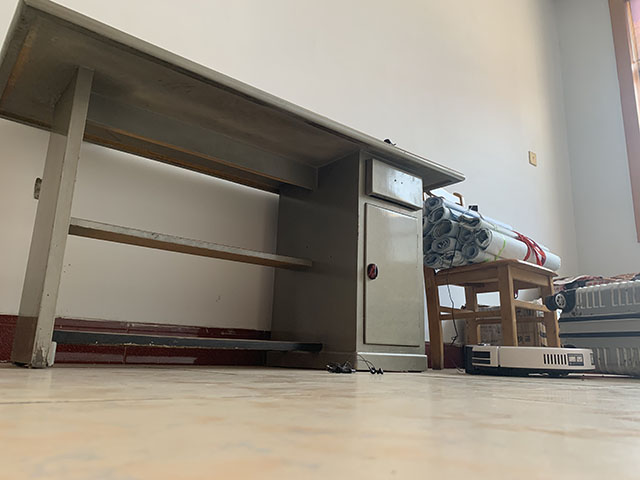stool: (423, 257, 564, 373)
table: (1, 1, 467, 378)
wire: (324, 351, 385, 376)
